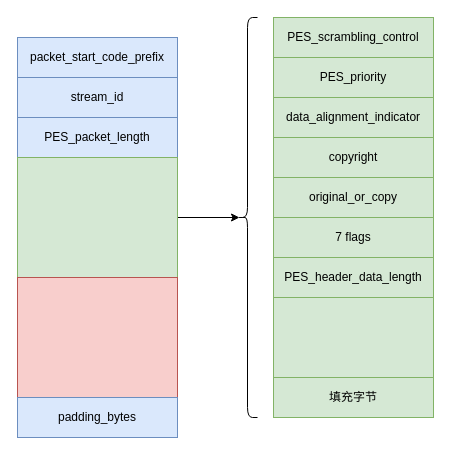
The diagram is 451 pixels wide and 455 high, and some of its shapes have lost their labels. Here are the shapes that lost their labels. From the top down, the box of each, then its label:
(16, 156, 178, 278): PES Packet 头结构
(16, 276, 178, 398): PES Packet 有效数据
(272, 296, 434, 378): PES 附加信息
